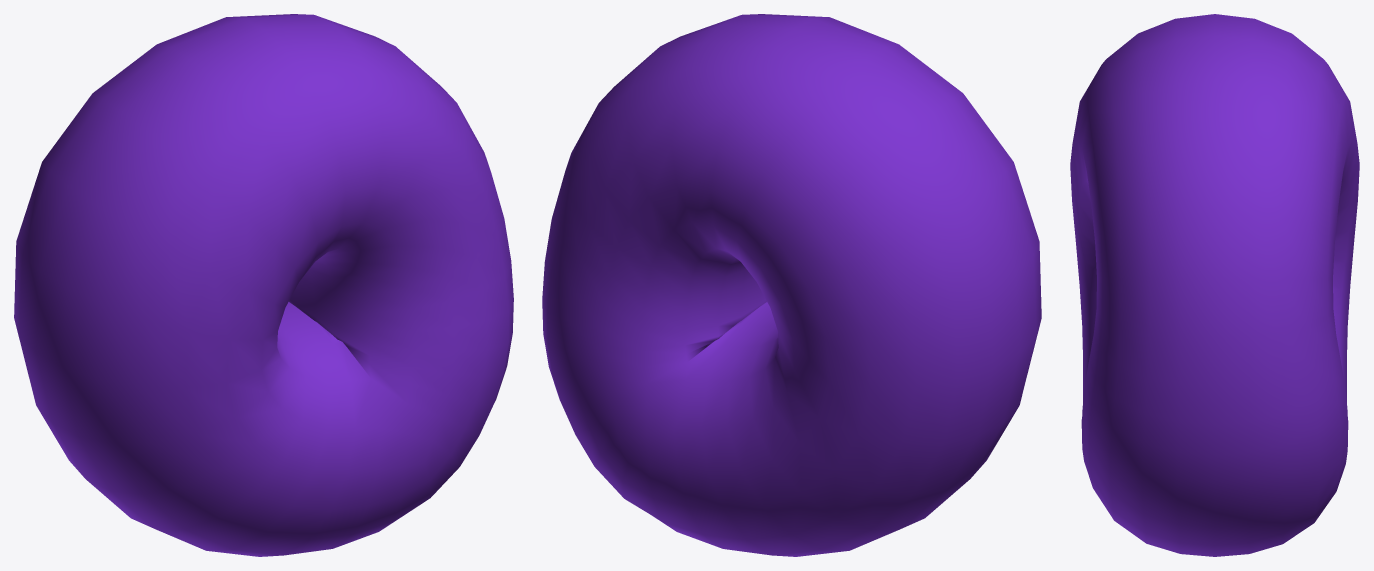
3 views of the same model, side by side, from view 1: azimuth 30°, elevation 25°; view 2: azimuth 150°, elevation 25°; view 3: azimuth 270°, elevation 25° (orthographic). The views are drawn at different scales.
Visible parts, largest first — view 1: O_13; view 2: O_13; view 3: O_13.
Part boxes in pixels (<box>): O_13: <box>14,14,513,556</box>; O_13: <box>542,14,1041,556</box>; O_13: <box>1070,14,1359,556</box>.
Bounding box in the file's own units: 91.21 × 99.01 × 53.25.
